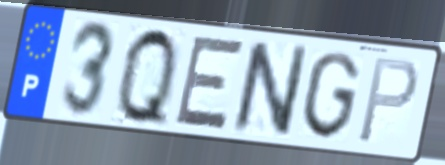3: (58, 16, 118, 124)
E: (171, 33, 248, 133)
G: (298, 49, 363, 143)
N: (229, 39, 312, 139)
P: (354, 55, 422, 147)
Q: (115, 23, 180, 133)
